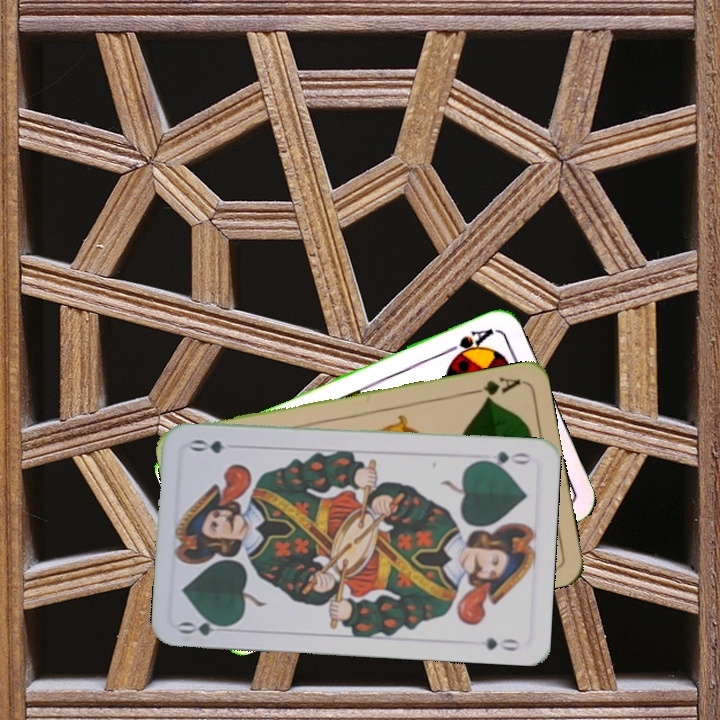GA: (464, 373, 523, 403)
GO: (175, 613, 235, 638), (475, 447, 534, 470)
SA: (444, 324, 501, 362)
